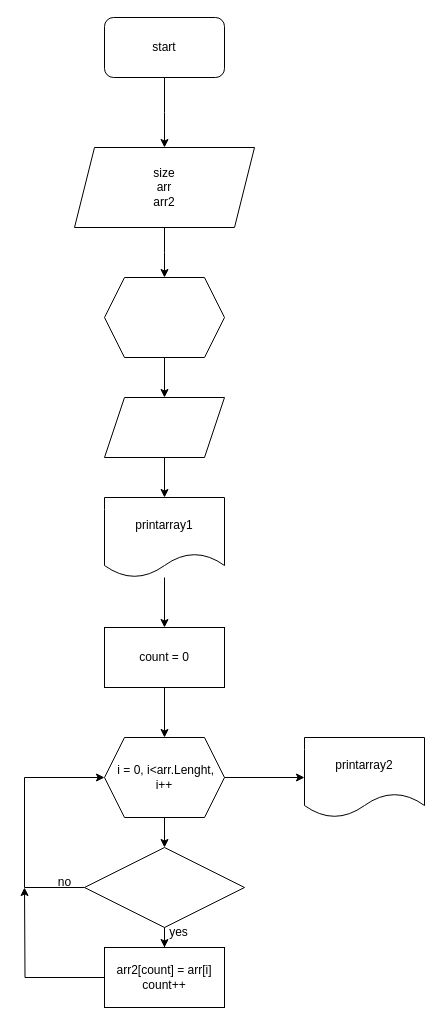
Some shapes in this 442 by 1025 pixel diagram are drawn without their labels. The shapes that lost their labels are listed below. From the top down, each one's box as (x1, y1, x2, y2) in pixels, then its label:
(104, 276, 224, 358): i = 0, i< size, i++
(104, 396, 224, 458): arr[i]
(84, 846, 244, 928): arr[i].lenght <= 3
